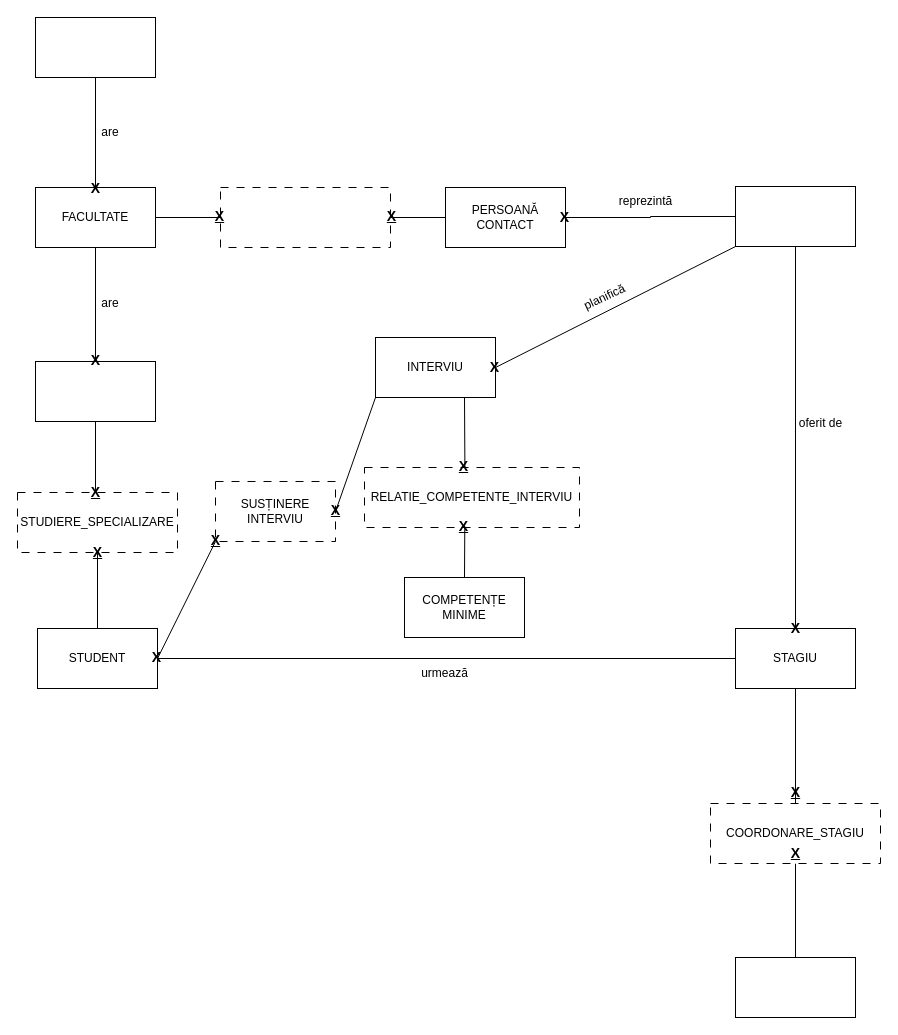
This 898x1035 diagram has some shape labels left out. Each missing label, with the centre of its shape:
ANGAJATOR: (x=795, y=216)
CONTACTARE_FACULTATE: (x=305, y=217)
COORDONATOR STAGIU: (x=795, y=987)
SPECIALIZARE: (x=95, y=391)
UNIVERSITATE: (x=95, y=47)
